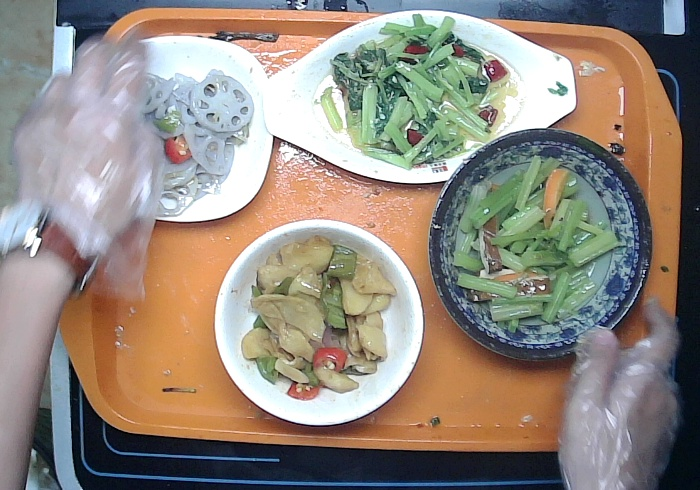ZNLD-Qing_Hua_Wan: (426, 125, 657, 365)
ZNLD-Si_Fang_Wan: (102, 32, 274, 225)
ZNLD-Tang_Wan: (213, 216, 426, 430)
ZNLD-Yu_Pan: (260, 7, 578, 191)
